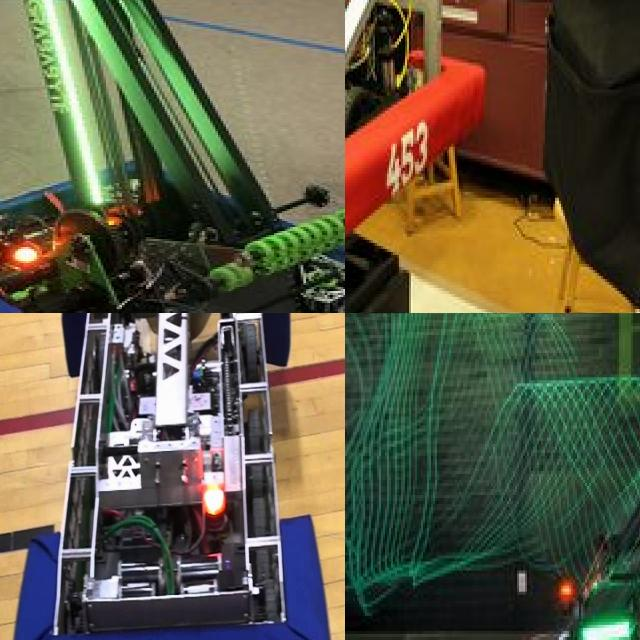FRC-Robots: (0, 313, 343, 640), (0, 0, 345, 313), (357, 313, 640, 640), (345, 0, 529, 313)
